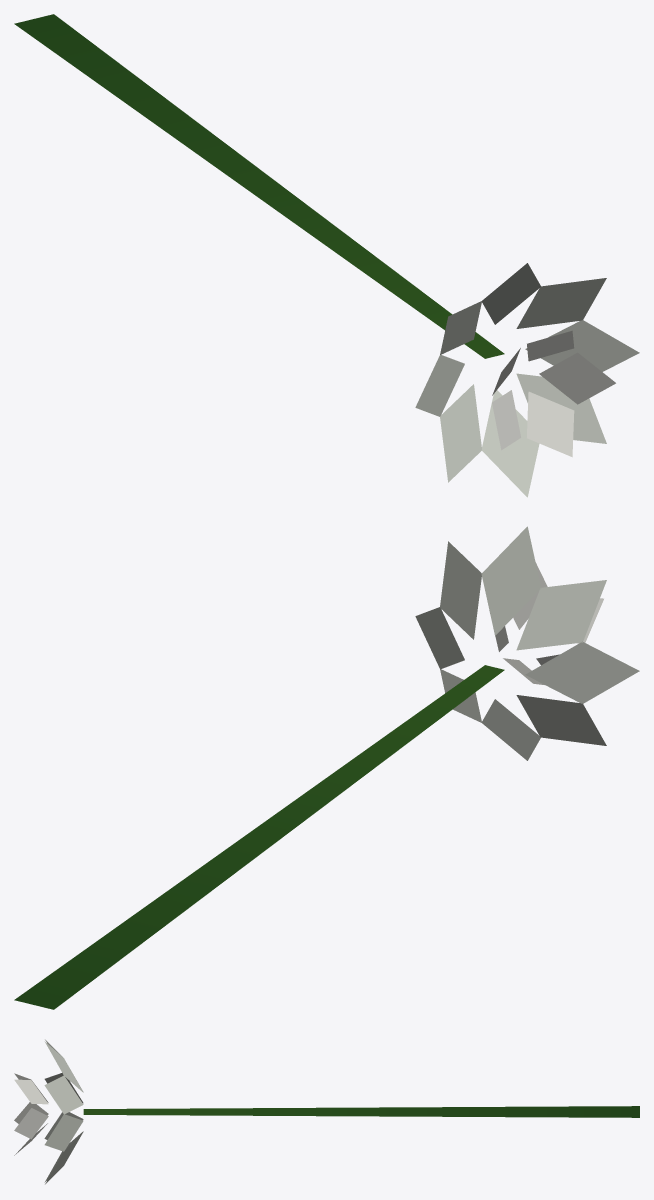
File: Flower_Clover.glb
3 renders of one model, top to bottom at view 1: azimuth 30°, elevation 25°; view 2: azimuth 150°, elevation 25°; view 3: azimuth 270°, elevation 25°, orthographic. The views are drawn at different scales.
Visible parts, largest first — view 1: Flower_Clover; view 2: Flower_Clover; view 3: Flower_Clover.
Part boxes in pixels (x1,y1,x2,y2): Flower_Clover: (14,14,639,497); Flower_Clover: (14,526,639,1009); Flower_Clover: (14,1039,639,1184).
Size of the model in its own units: 0.0225 by 0.0225 by 0.09.
